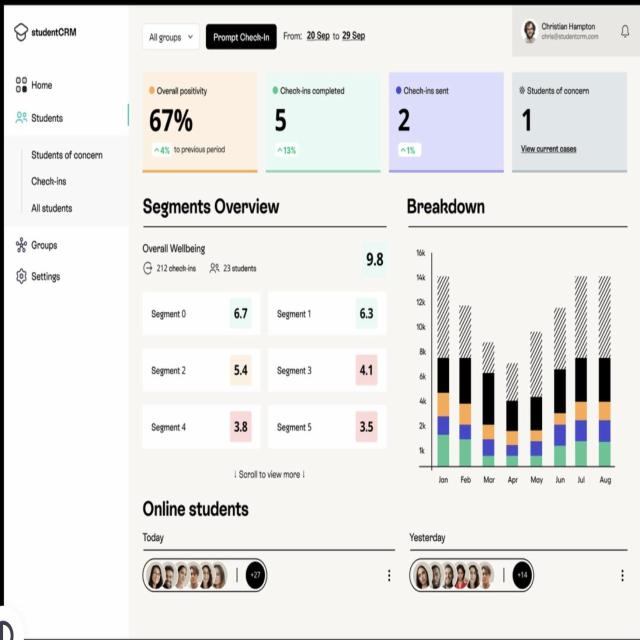button: (205, 22, 277, 51)
select: (143, 22, 200, 50)
